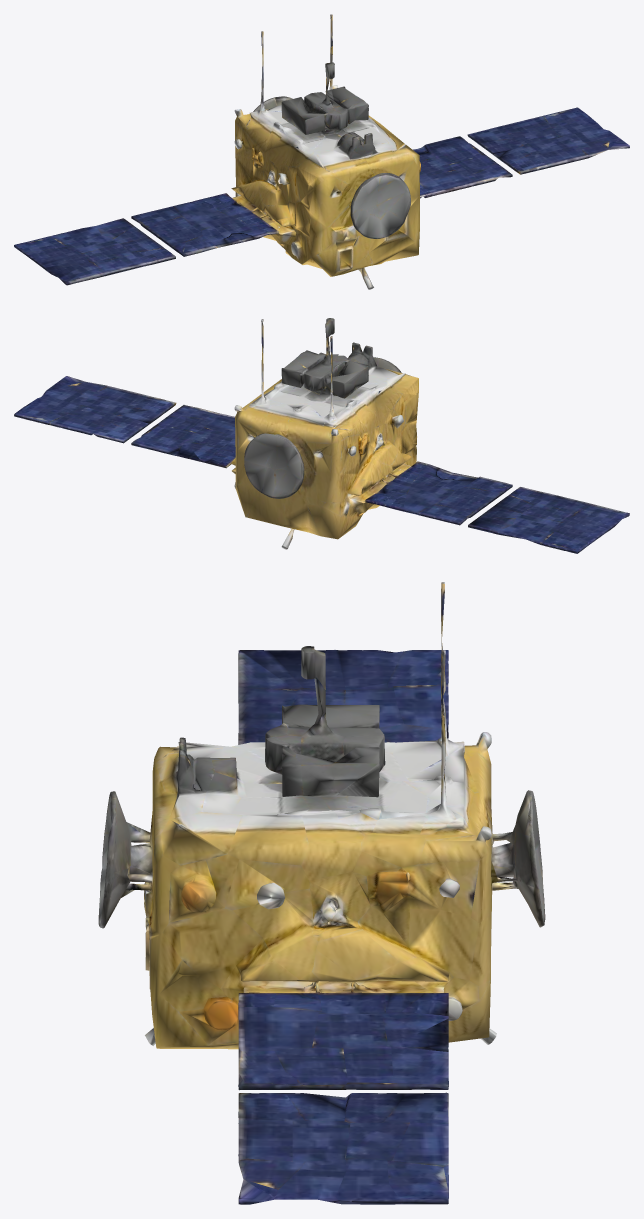
Rendered from comet_interceptor-low.glb.
3 renders of one model, top to bottom at view 1: azimuth 30°, elevation 25°; view 2: azimuth 150°, elevation 25°; view 3: azimuth 270°, elevation 25°, orthographic. The views are drawn at different scales.
Size of the model in its own units: 1.9 by 0.689 by 0.6519.
Materials: 1 (1 with a texture image).
